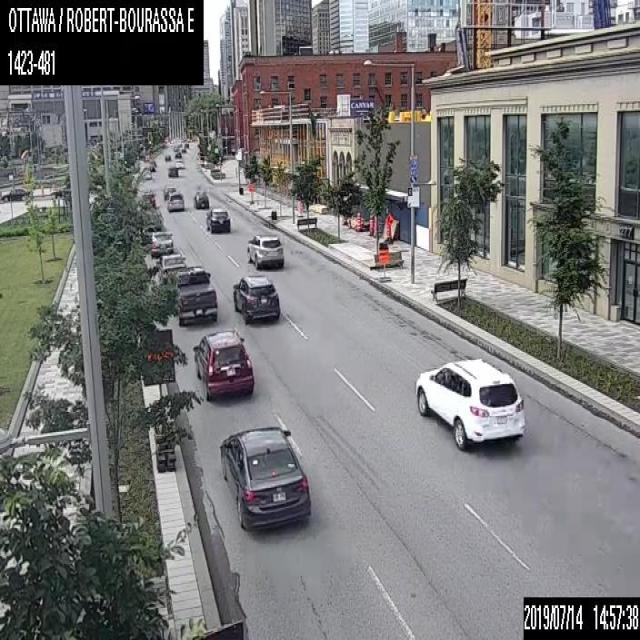construction: (138, 327, 175, 471), (377, 248, 391, 281), (248, 182, 255, 203), (384, 216, 390, 236), (368, 214, 374, 234), (296, 200, 302, 216), (355, 212, 360, 229)
vehicle: (414, 358, 524, 450), (218, 424, 310, 529), (192, 329, 254, 399), (170, 266, 217, 326), (232, 273, 279, 323), (245, 232, 283, 268), (155, 252, 185, 282), (205, 207, 230, 233), (148, 231, 172, 257), (0, 186, 27, 200), (167, 192, 184, 212), (192, 190, 208, 208), (142, 190, 155, 207), (163, 185, 175, 199), (168, 164, 178, 176), (174, 157, 183, 168), (142, 168, 151, 179), (174, 150, 181, 158), (164, 153, 170, 160)
